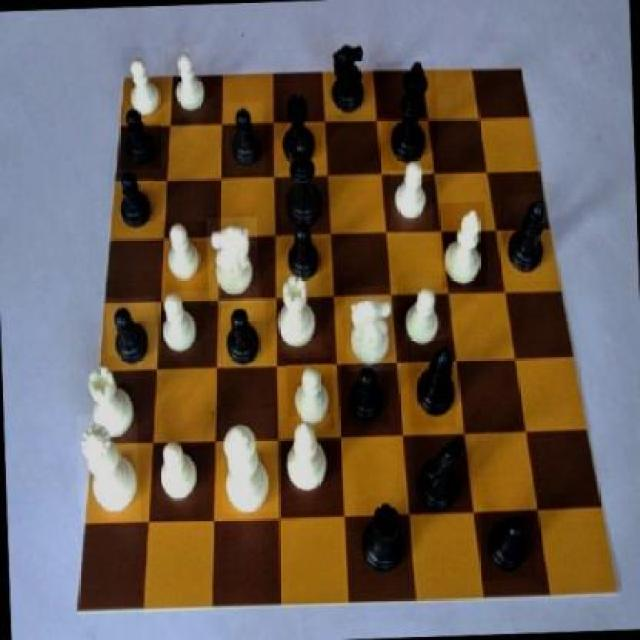bishop: (505, 194, 557, 281), (408, 338, 457, 428)
black-bishop: (377, 60, 440, 171)
black-king: (414, 426, 474, 517), (320, 35, 371, 118)
black-knight: (478, 509, 534, 580), (106, 297, 159, 372), (222, 297, 268, 370), (342, 362, 391, 428), (280, 219, 326, 286), (108, 171, 154, 238), (118, 103, 161, 170), (224, 102, 264, 174)
black-pawn: (278, 131, 329, 237)
black-queen: (277, 90, 328, 172), (356, 496, 408, 574)
black-rook: (281, 415, 334, 500), (440, 202, 488, 288)
white-bishop: (218, 409, 278, 513)
white-king: (344, 284, 400, 370), (208, 217, 260, 306)
white-knight: (153, 432, 204, 506), (286, 357, 334, 431), (160, 220, 209, 292), (389, 154, 433, 230), (400, 278, 445, 351), (121, 46, 162, 123), (168, 44, 210, 119), (157, 290, 200, 358)
white-pawn: (76, 412, 140, 522)
white-queen: (85, 356, 140, 440), (274, 269, 321, 353)
